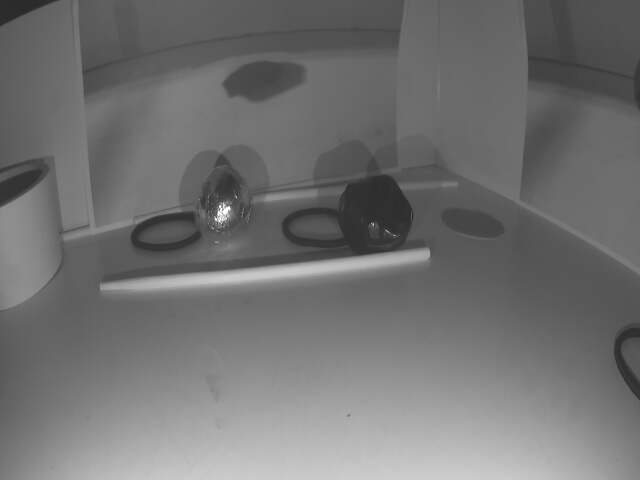Dead: (338, 172, 410, 251)
Live: (193, 171, 254, 242)
